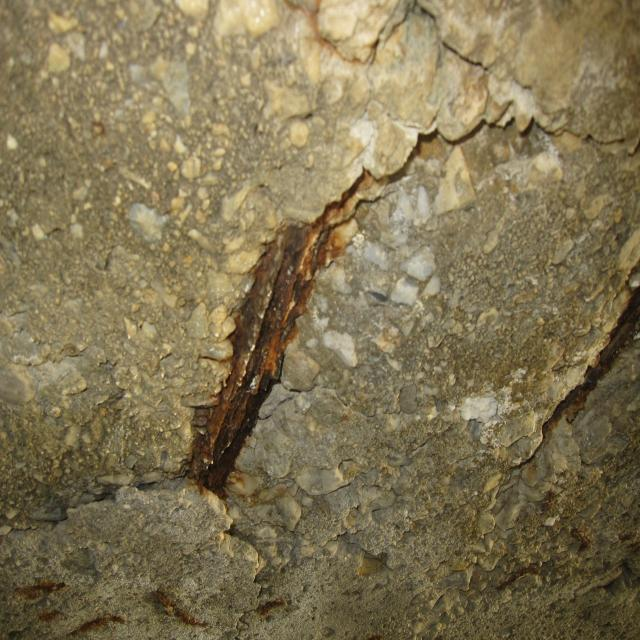corrosion: (186, 170, 410, 515)
